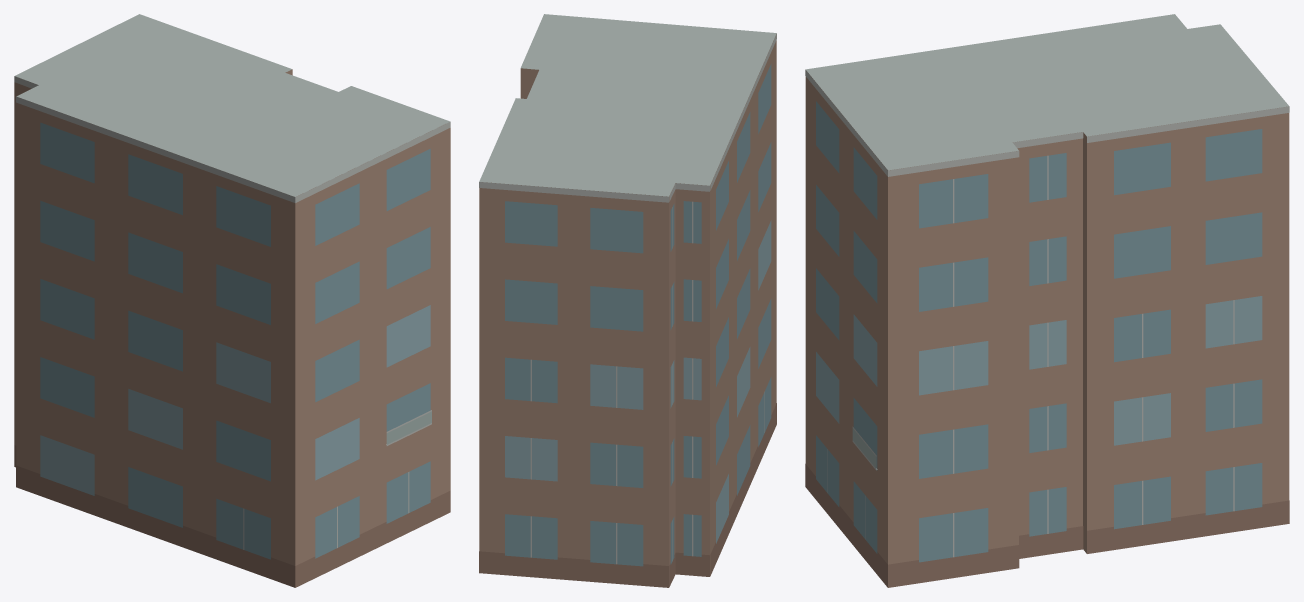
The model's file is survey-upis-32628520.glb.
3 renders of one model, left to right at view 1: azimuth 30°, elevation 25°; view 2: azimuth 150°, elevation 25°; view 3: azimuth 270°, elevation 25°, orthographic. The views are drawn at different scales.
Visible parts, largest first — view 1: survey-upis-32628520.tmp; view 2: survey-upis-32628520.tmp; view 3: survey-upis-32628520.tmp.
Boxes of the visible parts, x1,y1,x2,y2 form: survey-upis-32628520.tmp: (14, 14, 450, 587); survey-upis-32628520.tmp: (479, 14, 776, 587); survey-upis-32628520.tmp: (805, 14, 1289, 587).
Bounding box in the file's own units: 12.54 × 15.6 × 16.4.
